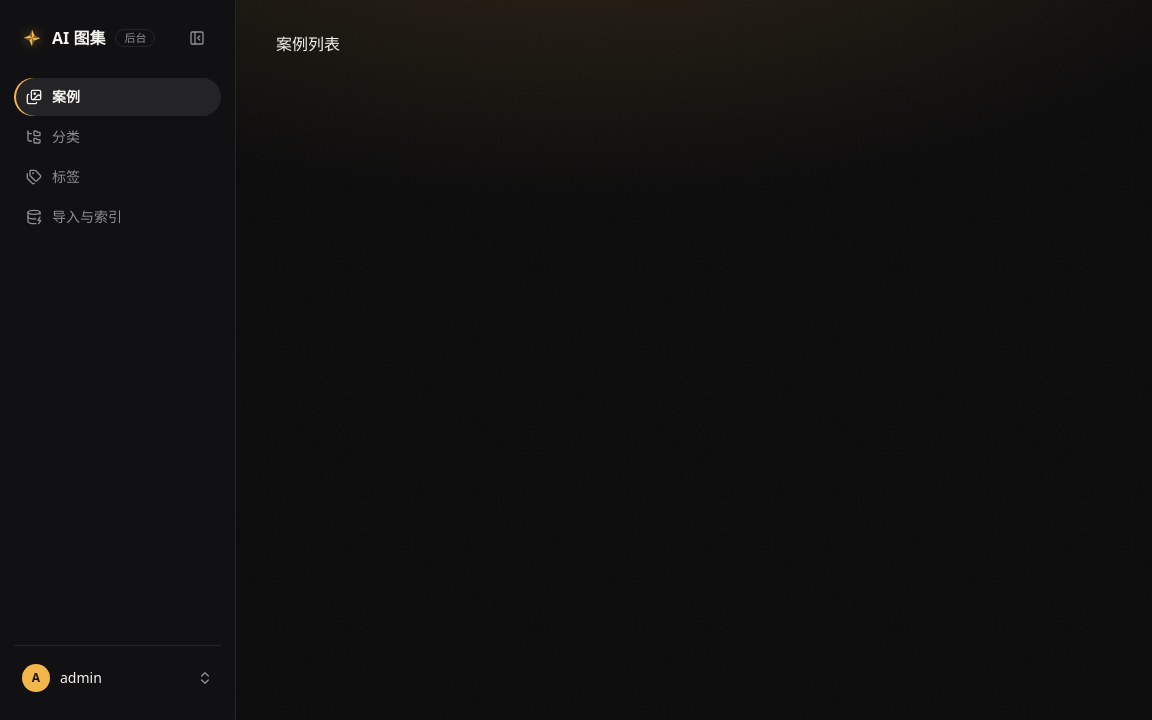
Scenario: F10 后台侧栏收起（规格 0003） › AC-3 AC-4 收起后按钮变为「展开侧栏」，导航名称与当前页高亮不变，文字只对读屏保留
This screenshot has width=1152, height=720.
Click the button named "收起侧栏".
click(197, 38)  # box [181, 22, 213, 54]
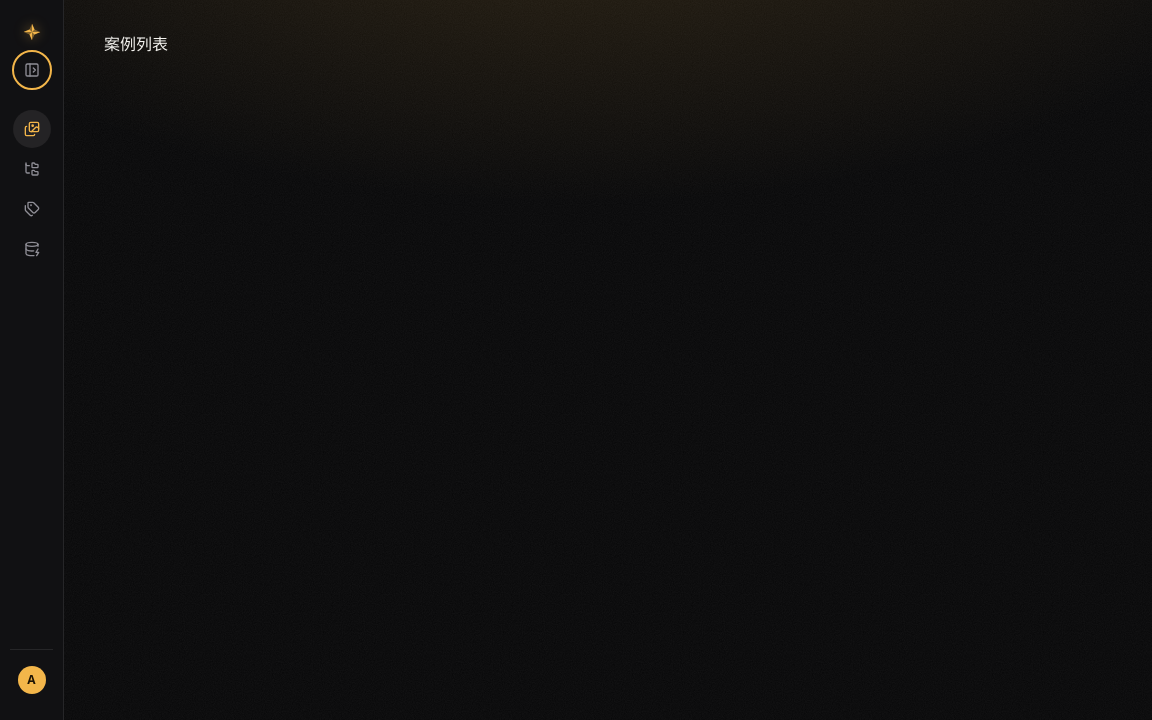
Result: the button named "展开侧栏" is shown
Click the button named "展开侧栏".
click(32, 70)  # box [16, 54, 48, 86]
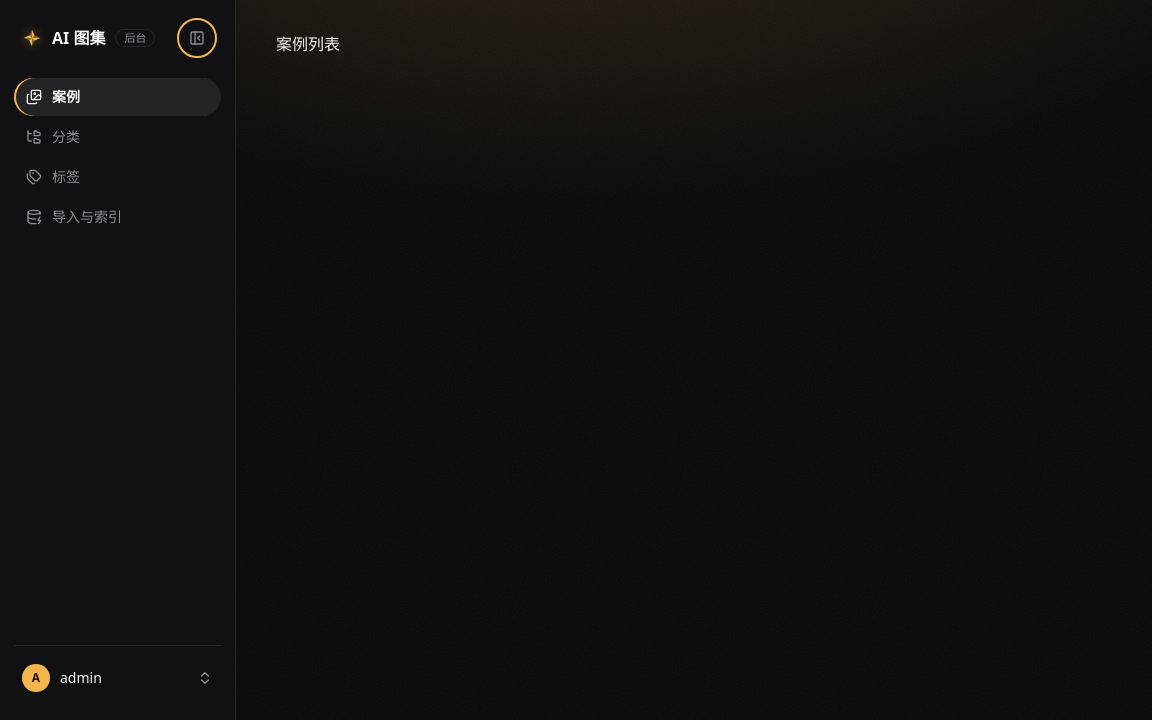
Result: the button named "收起侧栏" is shown at [181, 22, 213, 54]
